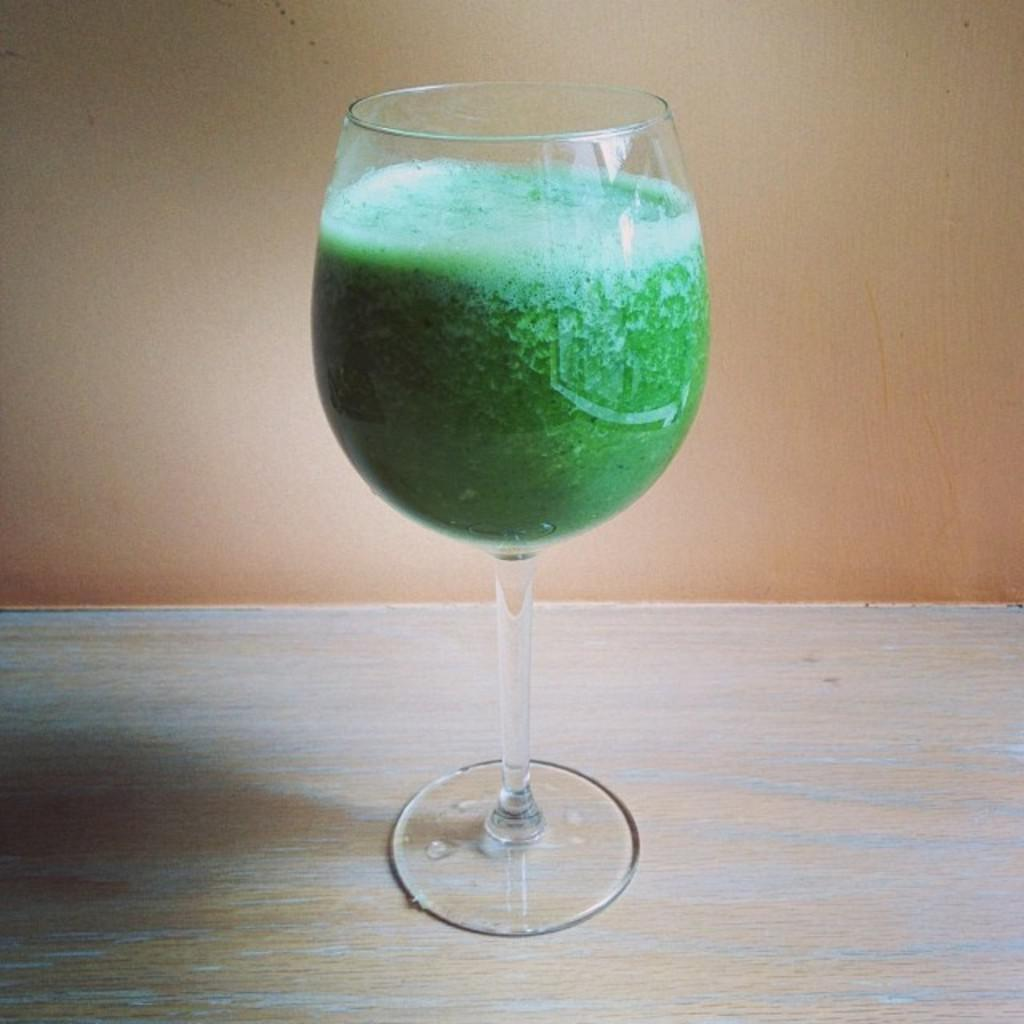glass-wine: (308, 73, 710, 937)
